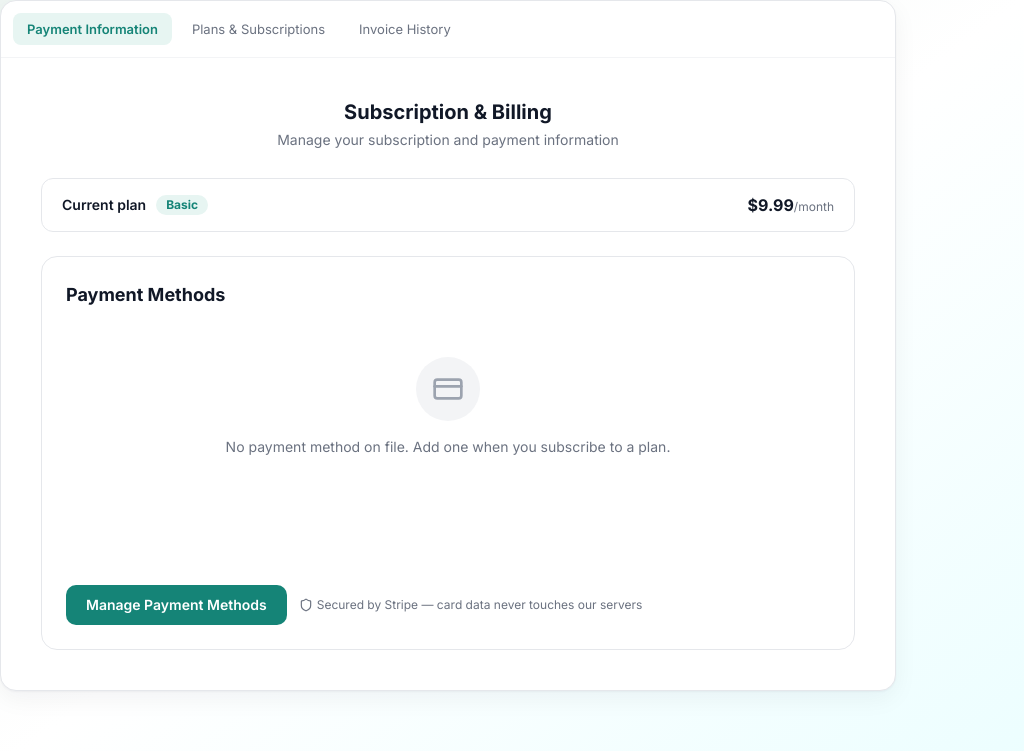
it: Billing Page Integration › updates prices when the billing cycle switches to yearly
Click the text "Plans & Subscriptions" at (258, 29), box [192,21,325,37]
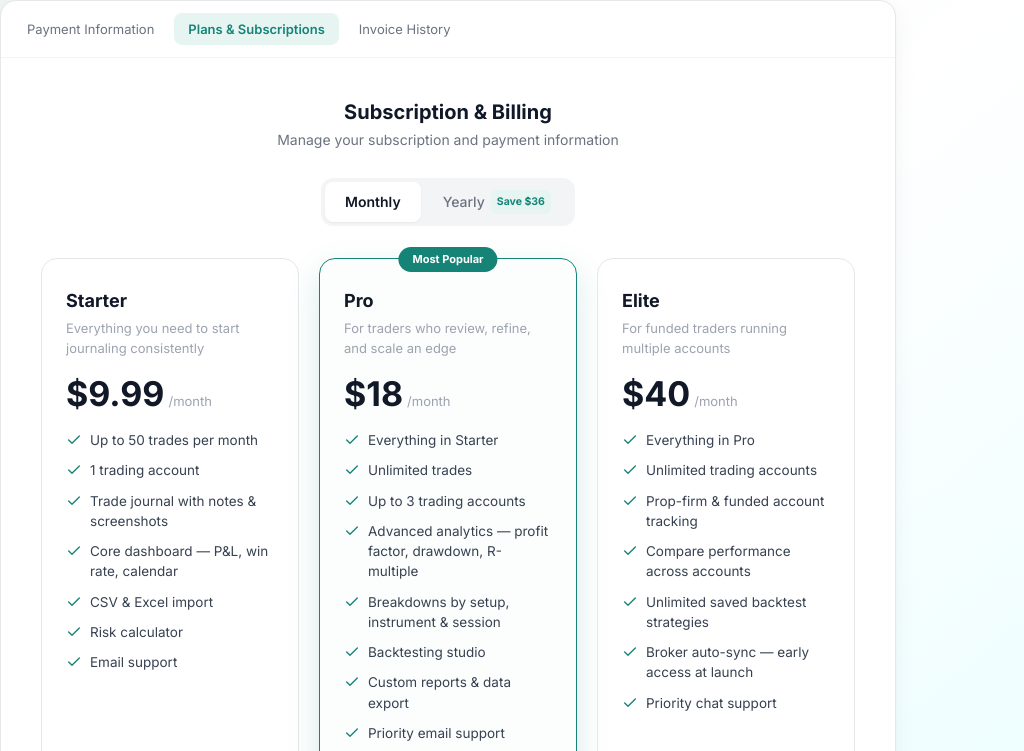
Click the button "Yearly Save $36" at (497, 202), box [423,182,571,222]
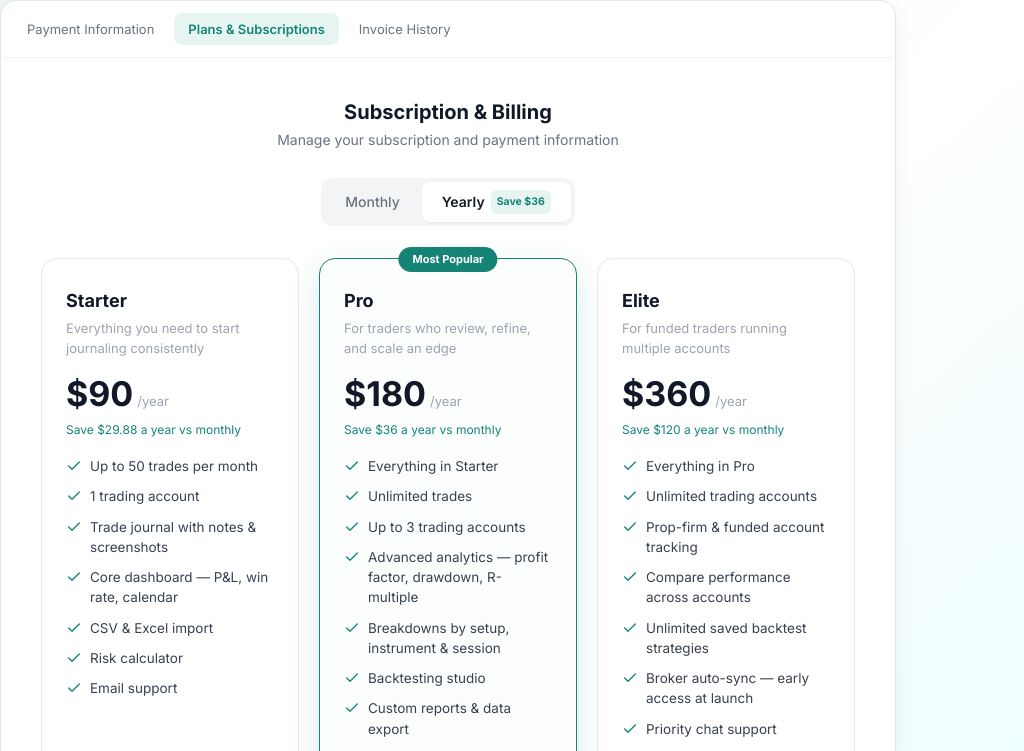
Expected: the text "$180" is shown, [344,376,426,412]
Expected: the text "$360" is shown, [622,376,711,412]
